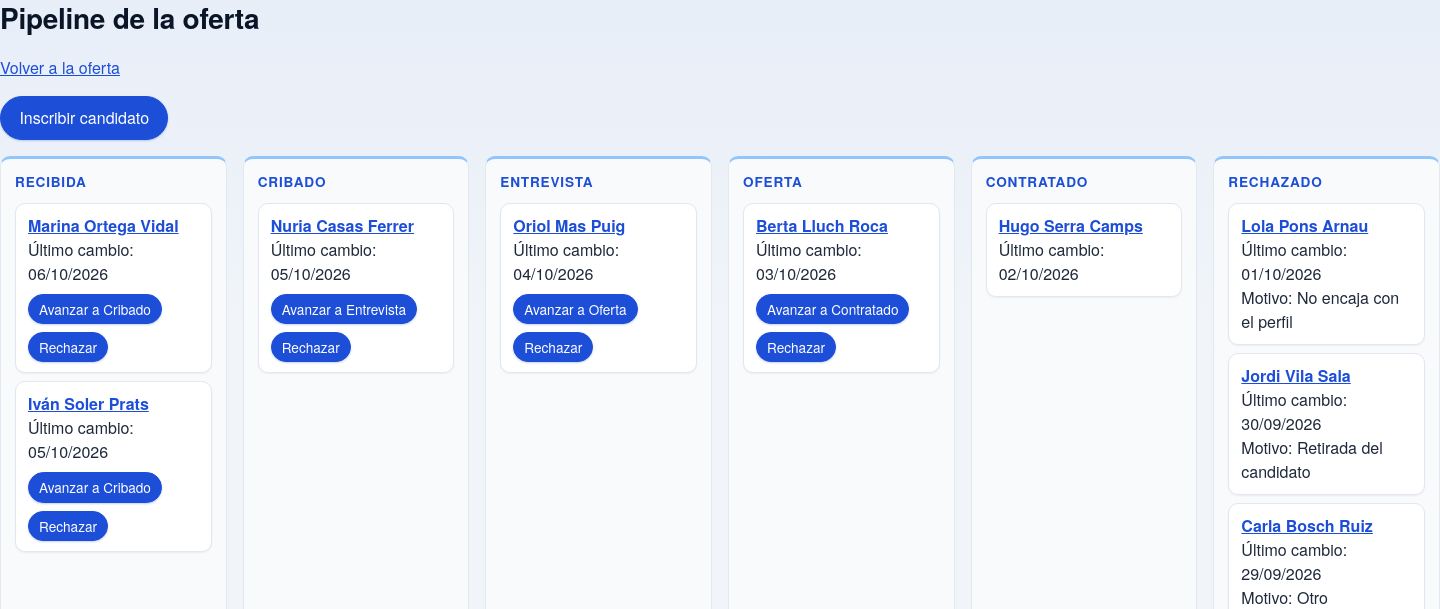
Test: PipelineScreen: hostiles y fallos (RF-07, RF-08) › EC-42: 400 → alerta userMessage en el panel sin stack, panel abierto con lo escrito y sin recarga
Click the button "Inscribir candidato" at (84, 118), box [0, 96, 168, 140]
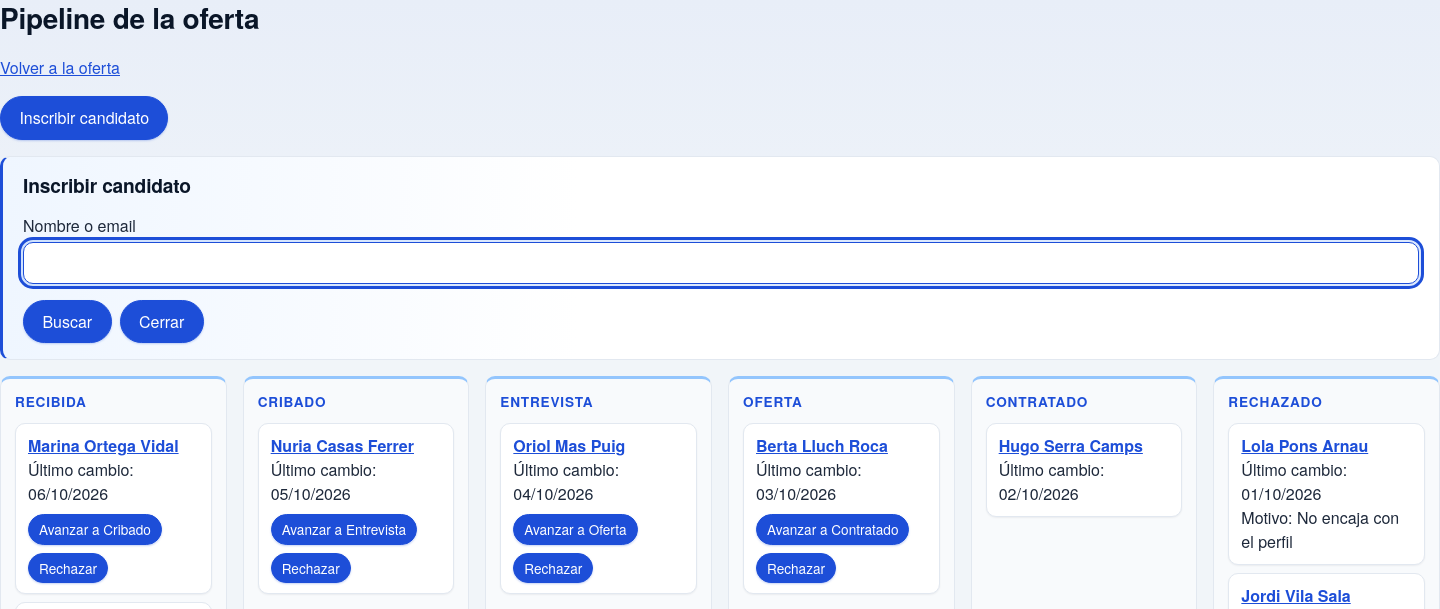
Type "ana" into the search field labelled "Nombre o email" at (721, 263), box [23, 242, 1419, 284]
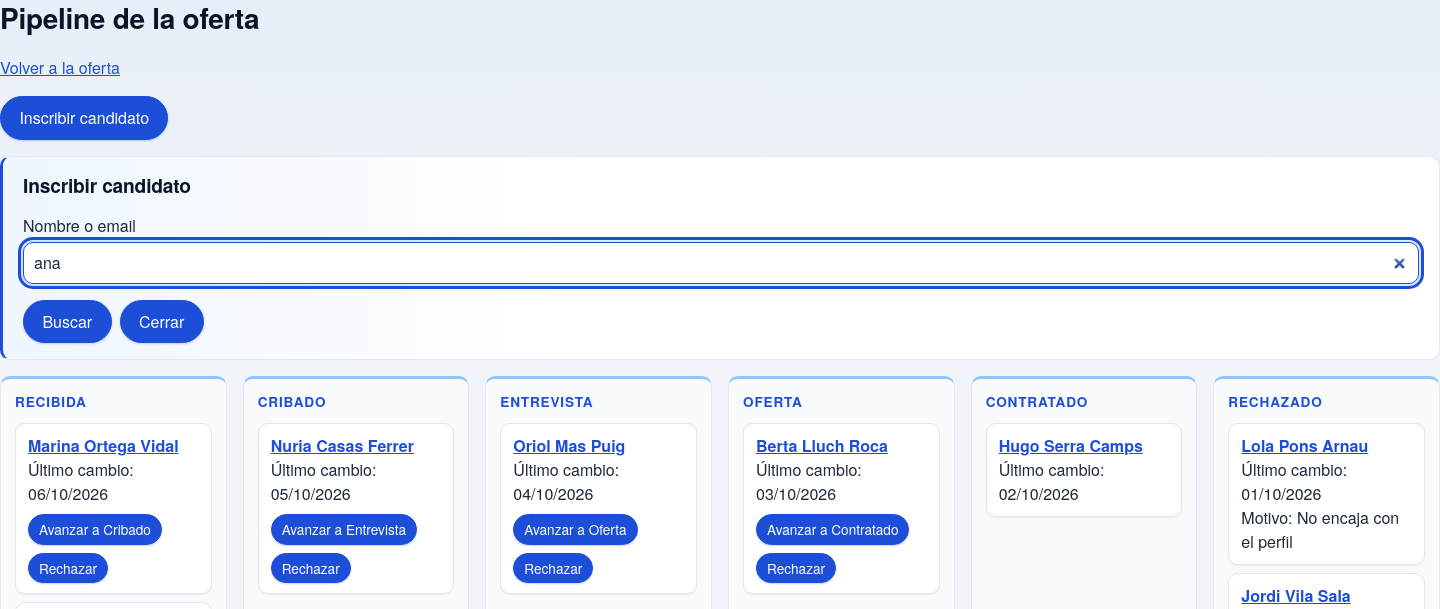
Click the button "Buscar" at (67, 322), box [23, 300, 112, 344]
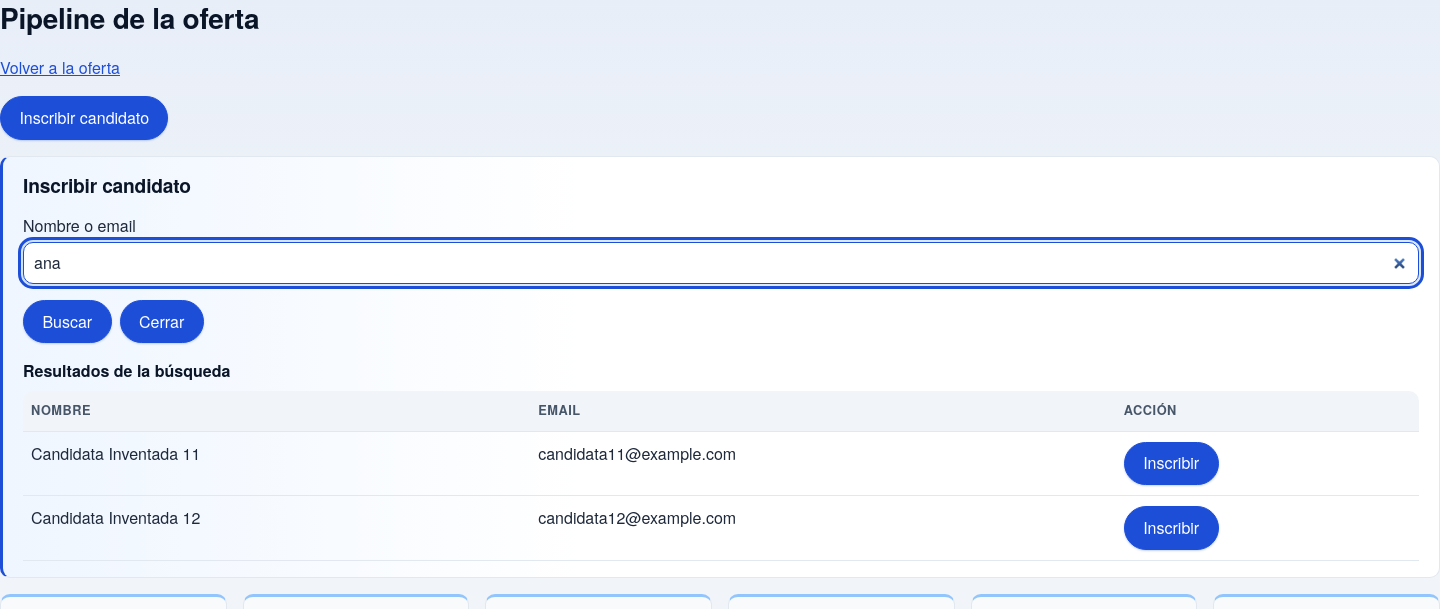
Now the table "Resultados de la búsqueda" is shown, box [23, 360, 1419, 561]
Click the button "Inscribir" in the row of "Candidata Inventada 12" at (1171, 528), box [1124, 506, 1219, 550]
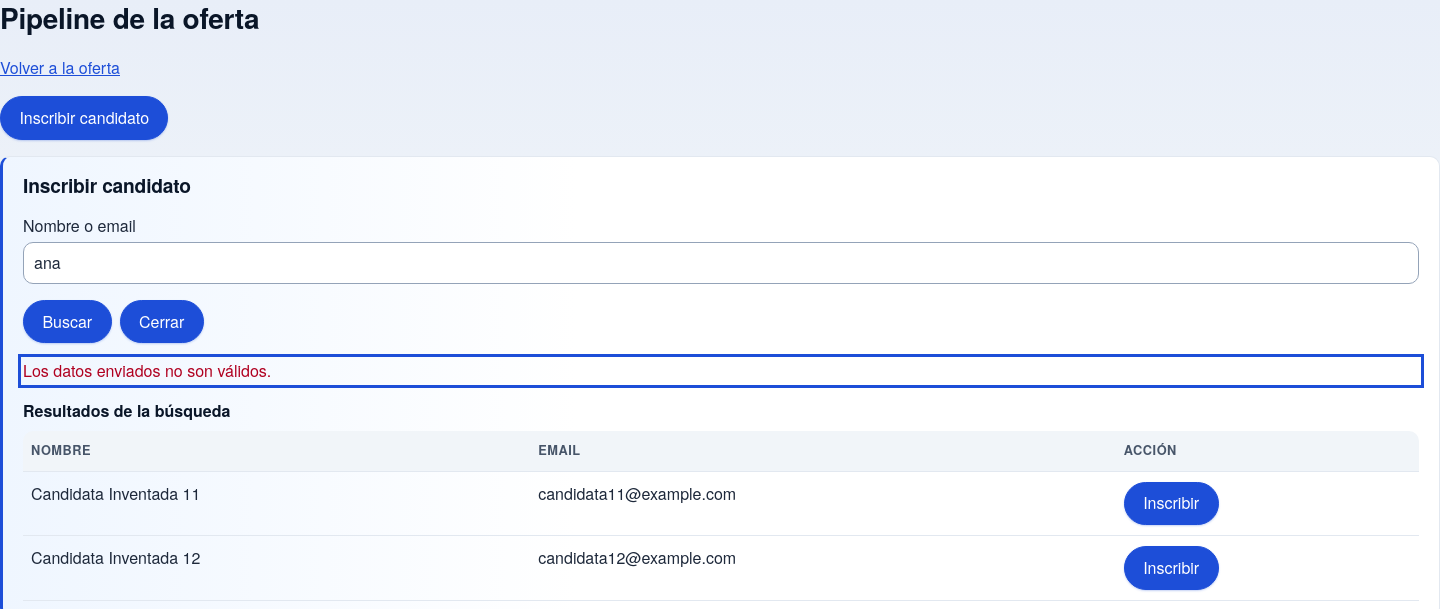
Now the message reads "Los datos enviados no son válidos.", box [23, 360, 271, 382]
